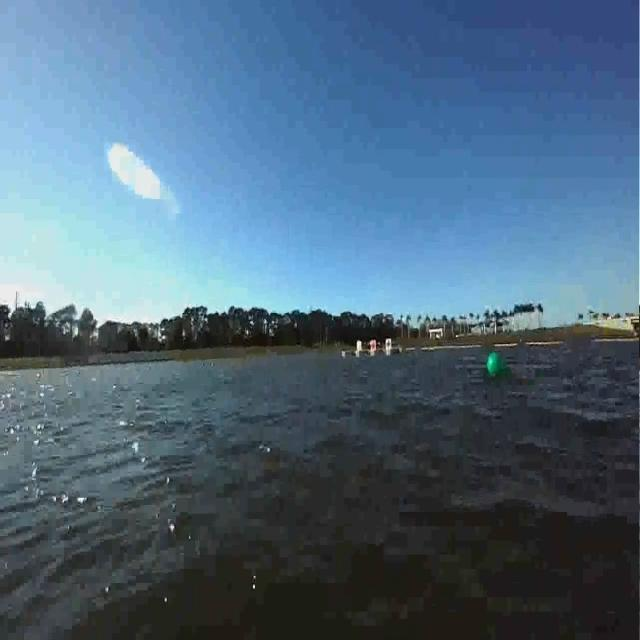green-buoy: (484, 350, 507, 376)
